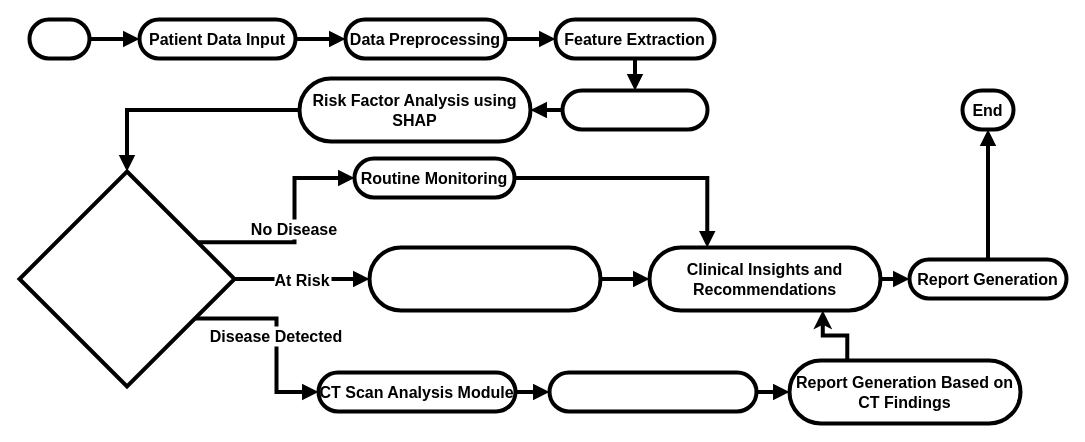
This 1085x442 diagram has some shape labels left out. Here are the shapes that lost their labels. From the top down, the centre of each, then its label:
(59,38): Start
(634,109): Model Prediction
(126,278): Patient Categorization
(484,278): Preventive Care and Follow-up
(652,391): CT Scan Image Processing
